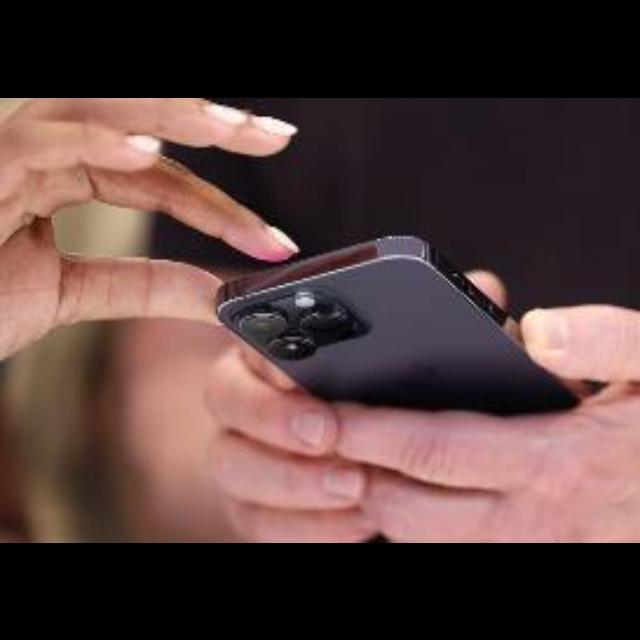Phone: (220, 238, 610, 416)
